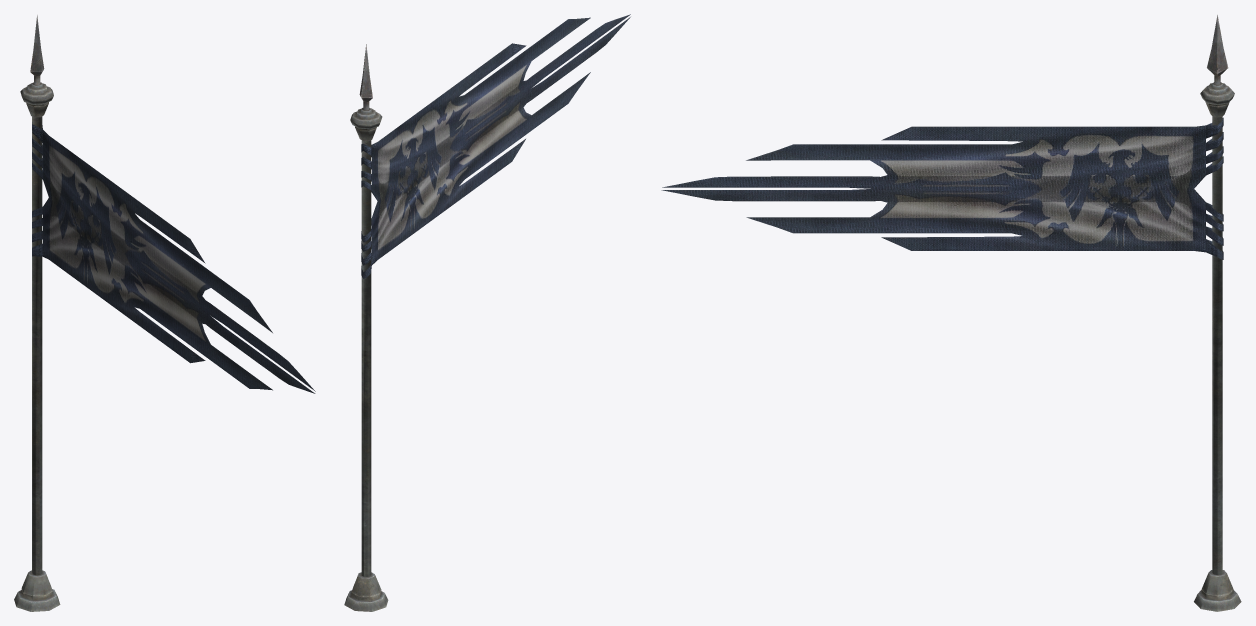
File: bg_lut_lucastle_castleflag05_sm_bjh.FBX
The picture shows the model from 3 angles, left to right: view 1: azimuth 30°, elevation 25°; view 2: azimuth 150°, elevation 25°; view 3: azimuth 270°, elevation 25°; orthographic projection. The views are drawn at different scales.
Parts seen in each view (by area): view 1: bg_lut_lucastle_castleflag05_sm_bjh; view 2: bg_lut_lucastle_castleflag05_sm_bjh; view 3: bg_lut_lucastle_castleflag05_sm_bjh.
Part boxes in pixels (x1,y1,x2,y2): bg_lut_lucastle_castleflag05_sm_bjh: (14, 15, 315, 611); bg_lut_lucastle_castleflag05_sm_bjh: (344, 14, 630, 611); bg_lut_lucastle_castleflag05_sm_bjh: (661, 15, 1241, 611).
Size of the model in its own units: 45.78 by 619 by 554.
